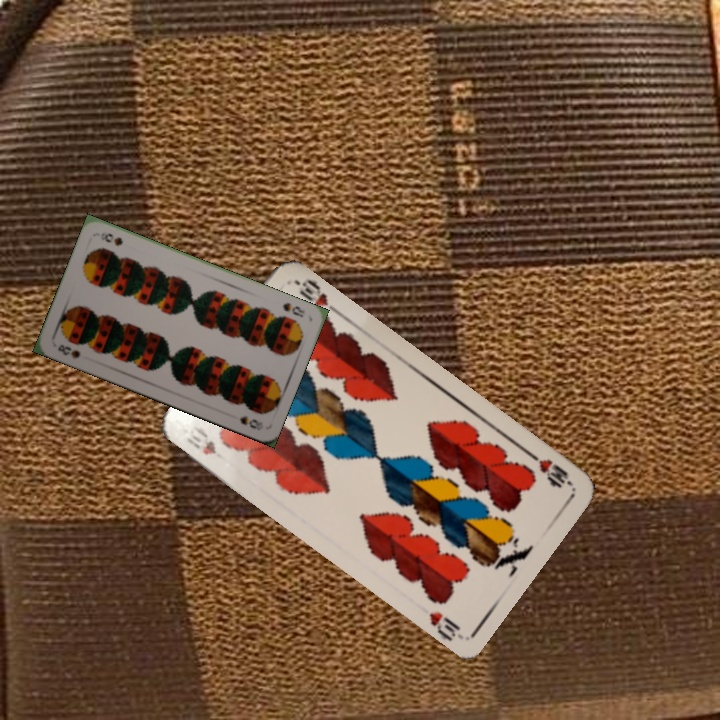H10: (523, 447, 575, 491), (183, 422, 219, 458)
S8: (278, 298, 308, 320), (54, 340, 83, 361)
